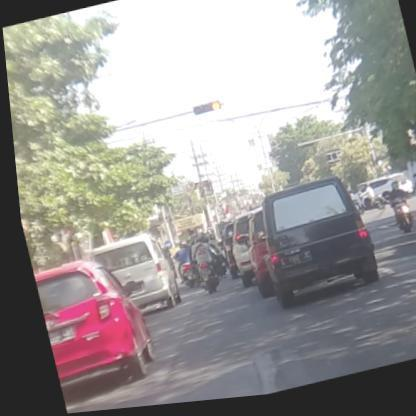red: (190, 104, 218, 119)
